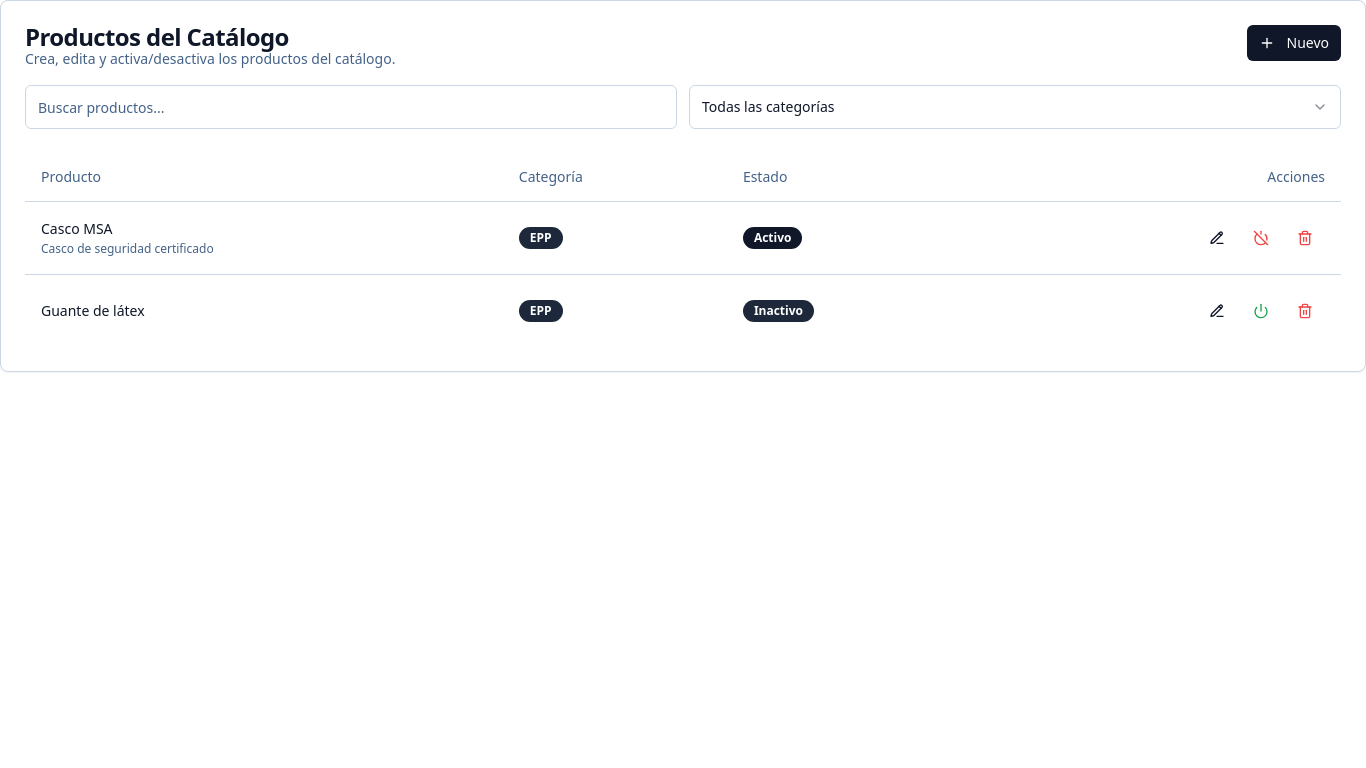
Test: ProductManager — persistence (HU-2.3) › opens create dialog with empty form on Nuevo click
This screenshot has width=1366, height=768.
Expected: the text "Casco MSA" is shown, [41, 218, 113, 238]
Click the button "Nuevo" at (1294, 43), box [1246, 25, 1341, 61]
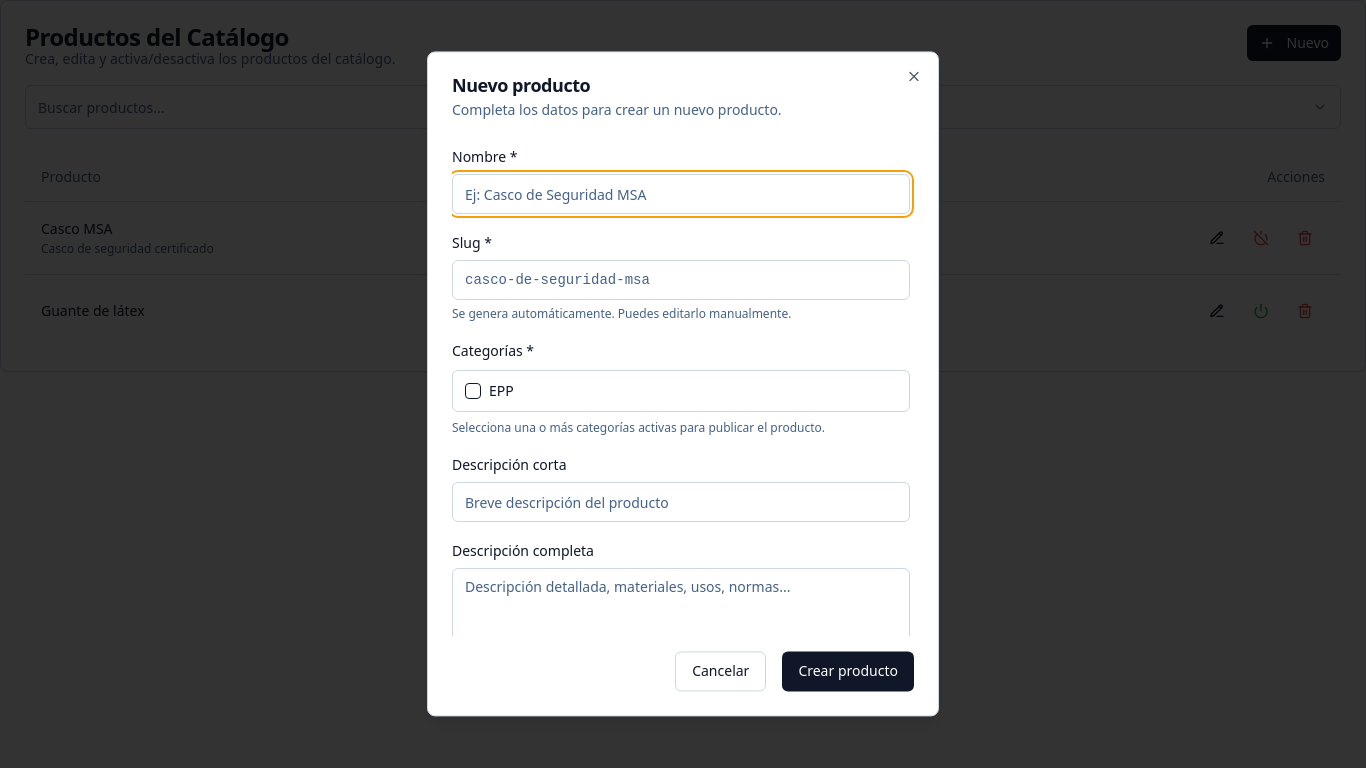
Expected: the dialog is shown, [427, 51, 939, 717]
Expected: the heading "Nuevo producto" is shown, [452, 73, 590, 97]
Expected: the field labelled "Nombre *" is empty, [452, 174, 910, 214]
